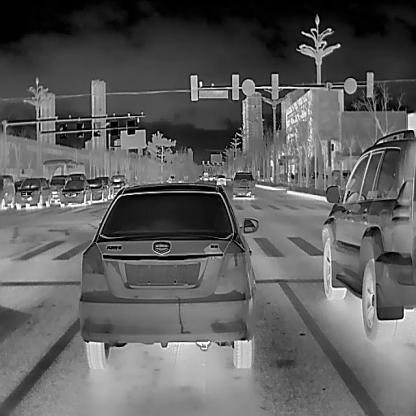car: (78, 183, 259, 369), (321, 128, 414, 341), (15, 176, 51, 211), (59, 180, 92, 207), (43, 158, 85, 179), (49, 174, 71, 203), (231, 172, 255, 198), (86, 178, 110, 202), (0, 174, 14, 209), (109, 175, 129, 196), (97, 176, 113, 199), (69, 173, 86, 180), (216, 175, 226, 185)
